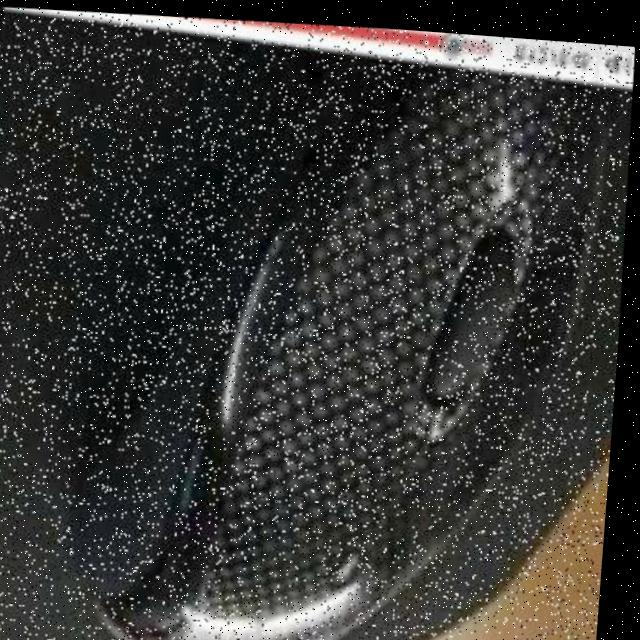mause: (26, 13, 639, 640)
